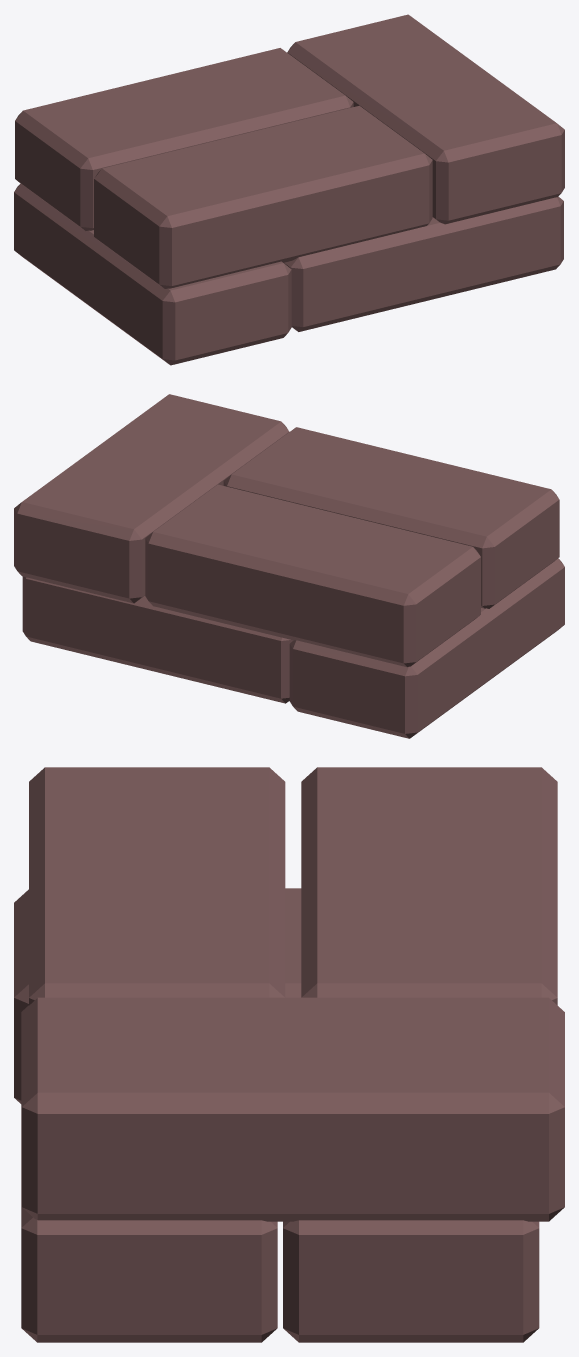
The model's file is props_36.glb.
3 views of the same model, one above another, from view 1: azimuth 30°, elevation 25°; view 2: azimuth 150°, elevation 25°; view 3: azimuth 270°, elevation 25° (orthographic). The views are drawn at different scales.
Visible parts, largest first — view 1: props_36; view 2: props_36; view 3: props_36.
Part boxes in pixels (x1=…): props_36: x1=14, y1=14, x2=564, y2=365; props_36: x1=14, y1=394, x2=564, y2=738; props_36: x1=14, y1=767, x2=564, y2=1342.
Bounding box in the file's own units: 0.5611 × 0.1932 × 0.3845.
Materials: 1 (1 with a texture image).
